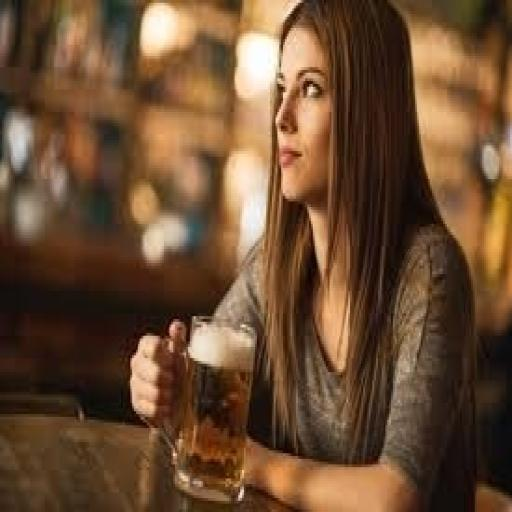drinking: (158, 310, 257, 504)
